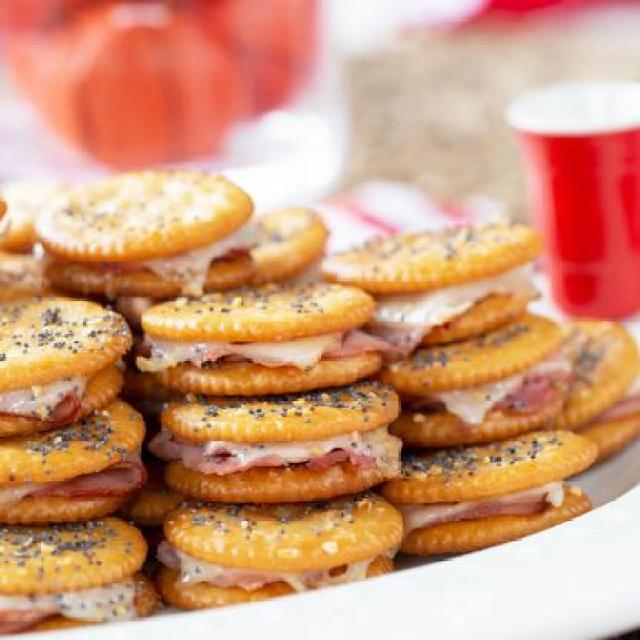Ritz cracker packaged: (6, 167, 602, 616)
